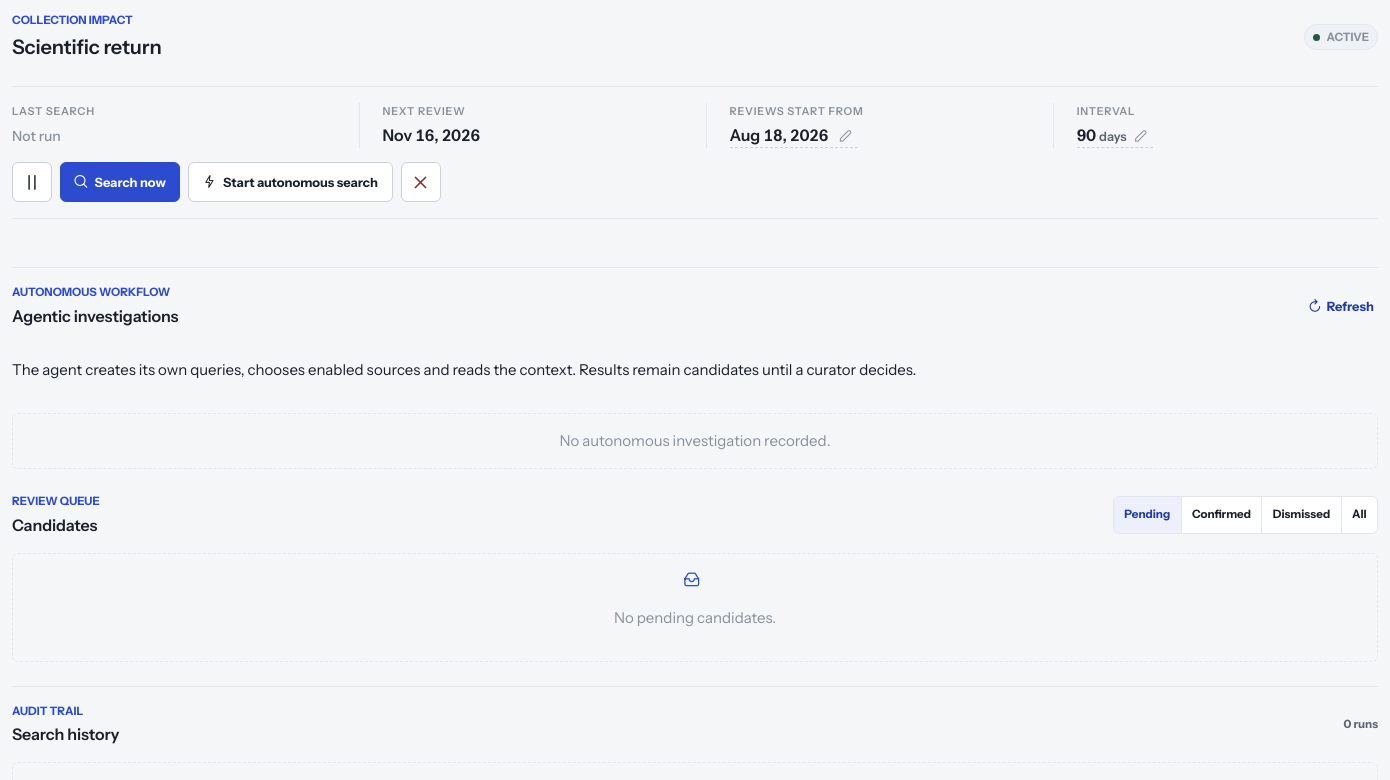
Test: ScientificReturnPanelComponent › saves a new interval and shows the next review the server returned
This screenshot has width=1390, height=780.
Click the button named "Edit review interval".
click(1141, 136)  # box [1128,127,1153,146]
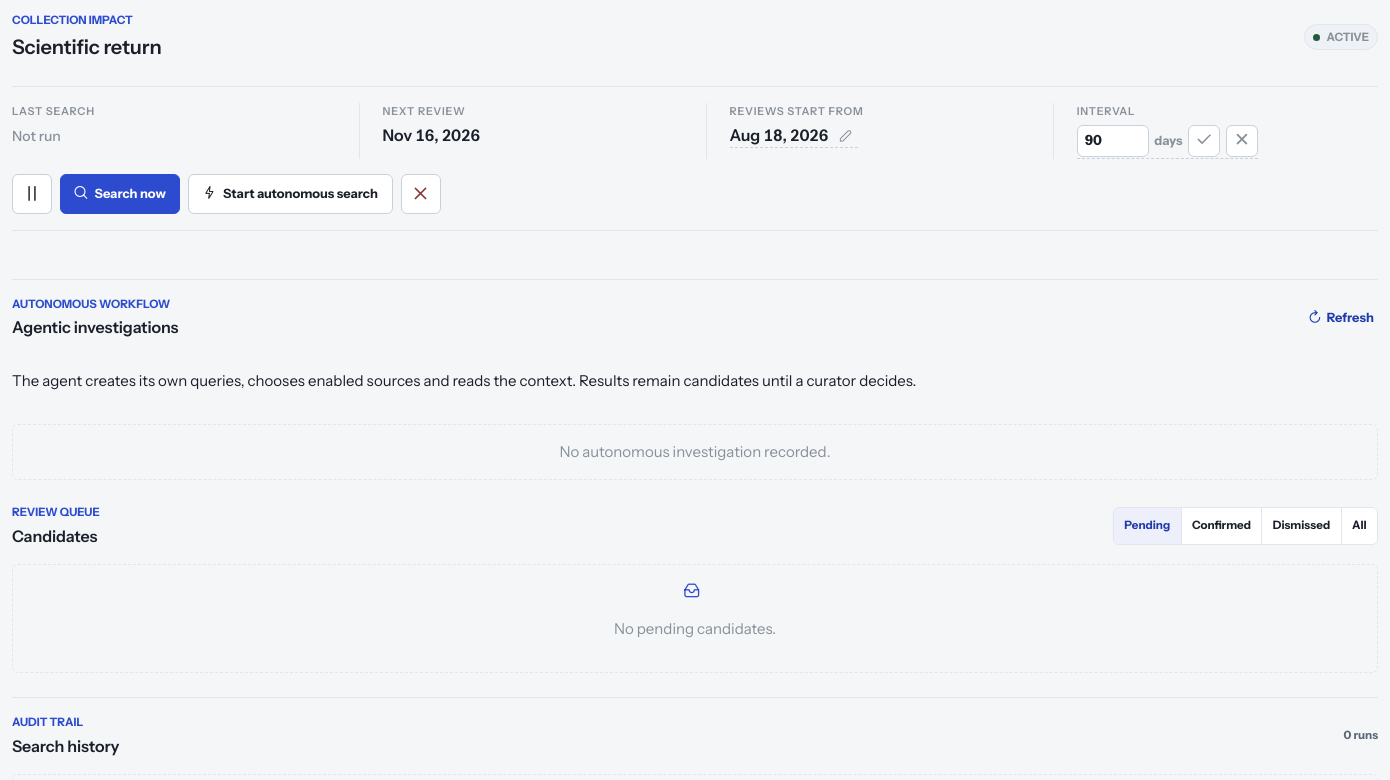
Replace the text in the number field named "Review interval in days" with "30" at (1113, 141), box [1077,125,1149,157]
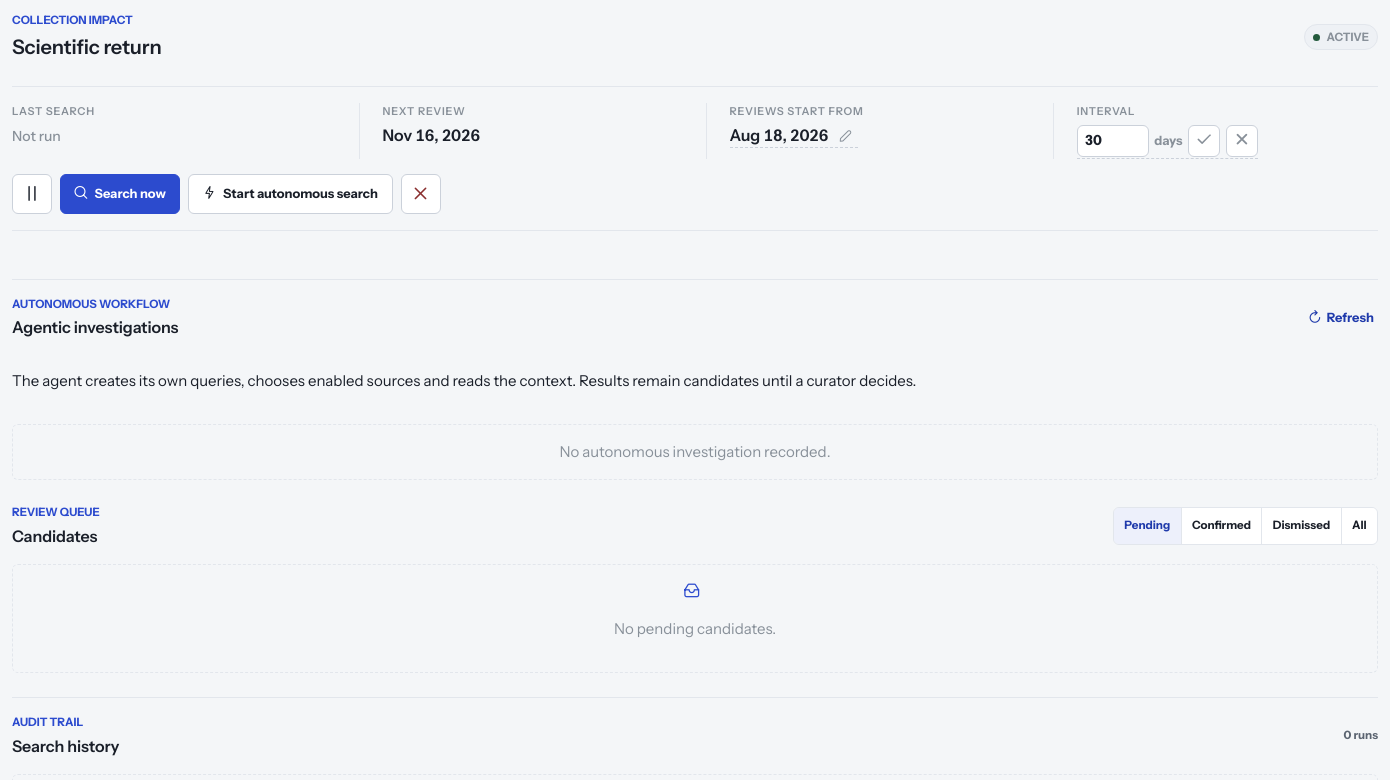
Click the button named "Save interval".
click(1204, 141)  # box [1188,125,1220,157]
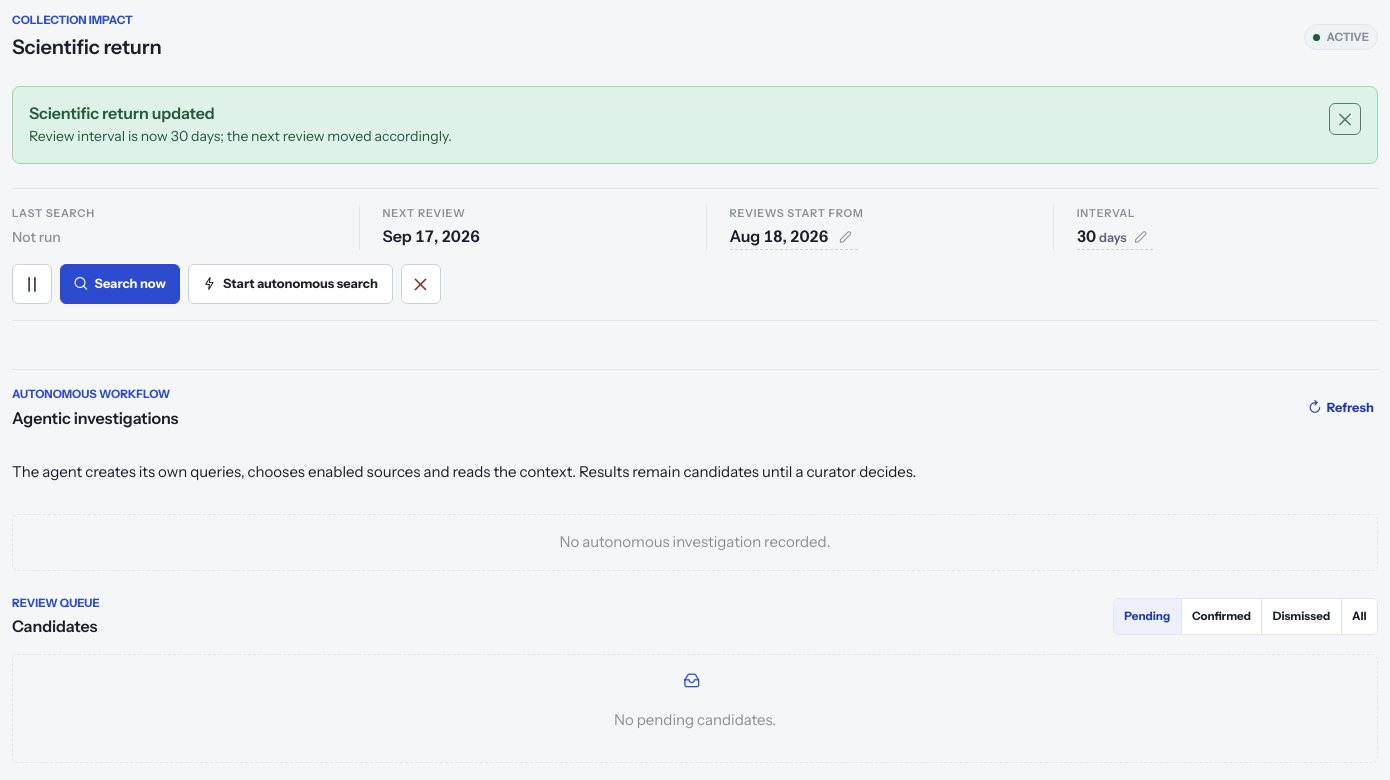
Expected: the text "30 days" is shown, [29,128,452,146]
Expected: the text "Sep 17, 2026" is shown, [382,226,480,246]
